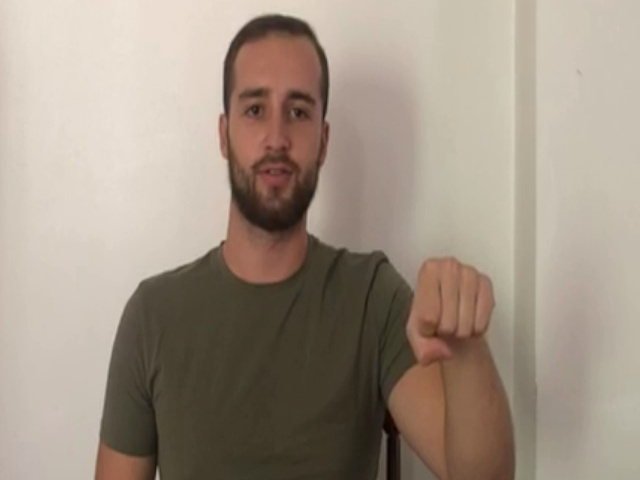Da: (403, 255, 498, 365)
